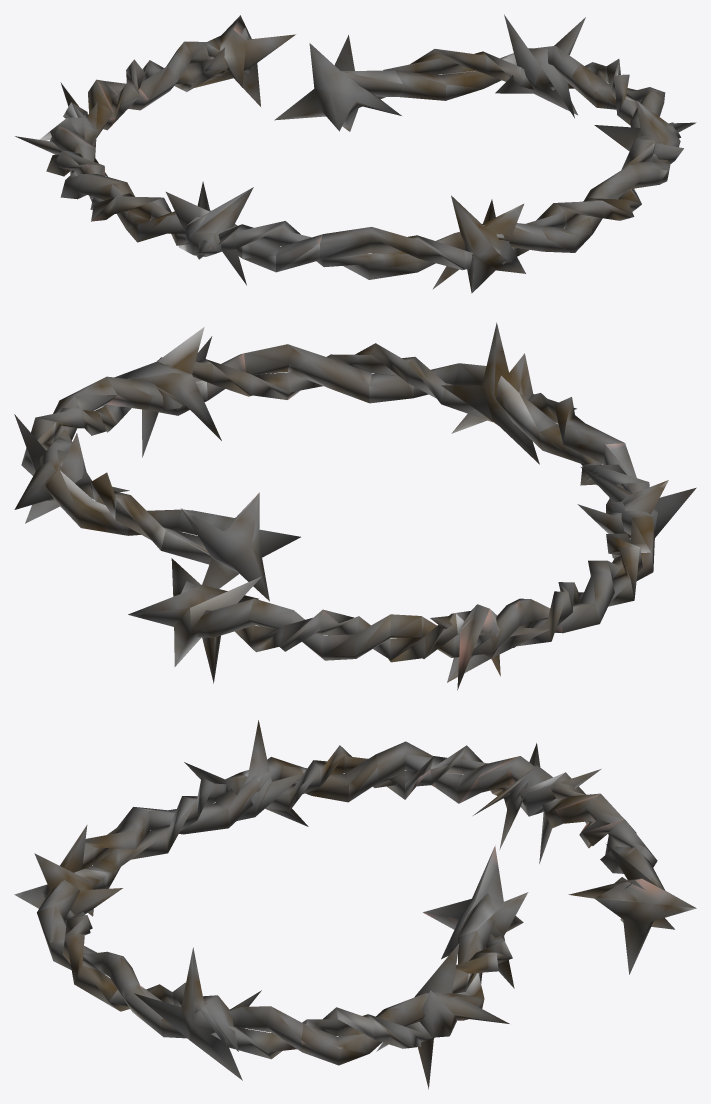
Rendered from Asset_02_tripwire_v001.obj.
3 views of the same model, one above another, from view 1: azimuth 30°, elevation 25°; view 2: azimuth 150°, elevation 25°; view 3: azimuth 270°, elevation 25° (orthographic). The views are drawn at different scales.
Parts seen in each view (by area): view 1: tripwire_low; view 2: tripwire_low; view 3: tripwire_low.
Boxes of the visible parts, x1,y1,x2,y2 form: tripwire_low: (15, 14, 696, 293); tripwire_low: (14, 322, 696, 690); tripwire_low: (14, 720, 696, 1089).
Size of the model in its own units: 4.54 by 0.9013 by 4.53.
